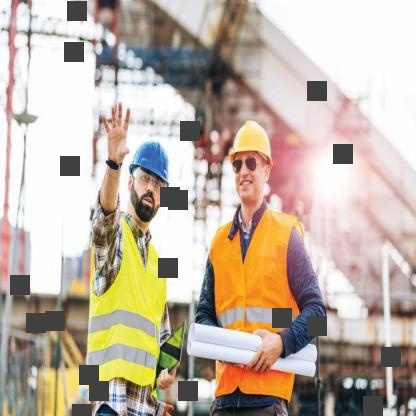blue: (127, 138, 176, 186)
vest: (208, 207, 308, 402), (83, 219, 171, 396)
yellow: (228, 115, 280, 173)
